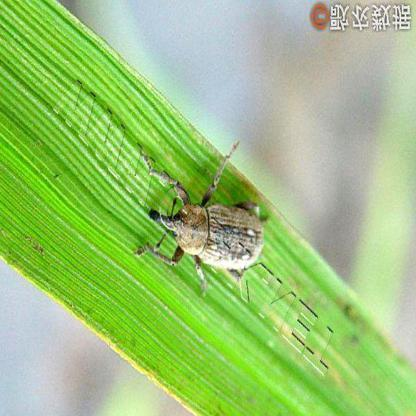rice-bug: (146, 156, 277, 284)
